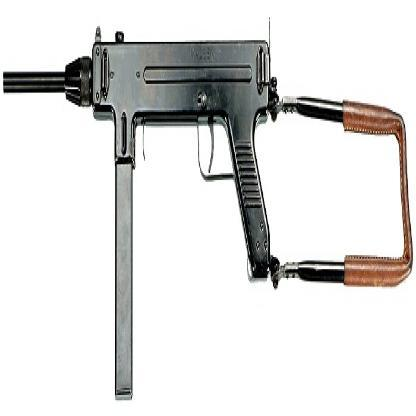gun: (0, 14, 416, 414)
